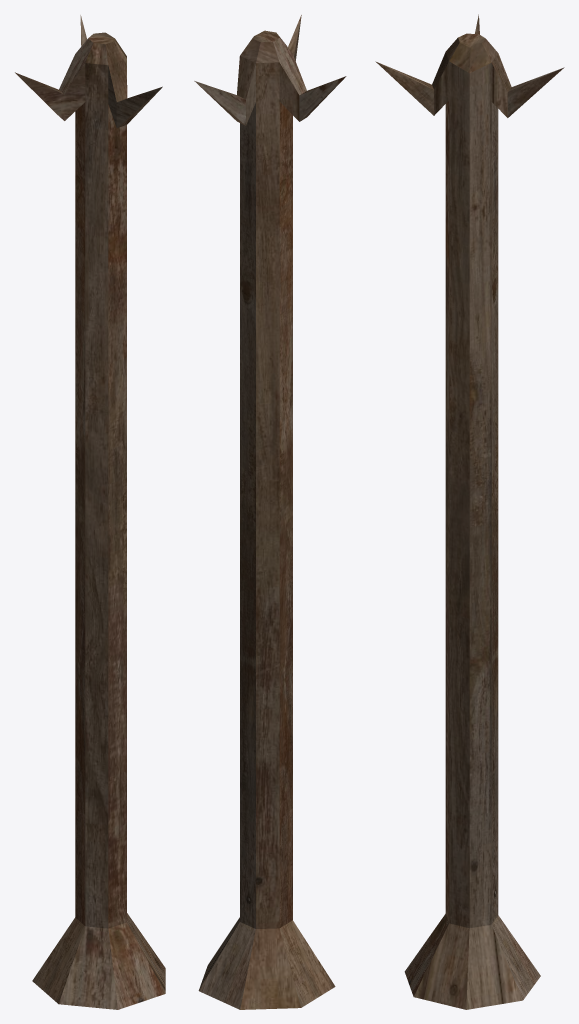
Rendered from DressHolder_1.fbx.
3 views of the same model, side by side, from view 1: azimuth 30°, elevation 25°; view 2: azimuth 150°, elevation 25°; view 3: azimuth 270°, elevation 25° (orthographic).
Visible parts, largest first — view 1: DressHolder_1; view 2: DressHolder_1; view 3: DressHolder_1.
Boxes of the visible parts, x1,y1,x2,y2 form: DressHolder_1: [15, 15, 165, 1009]; DressHolder_1: [194, 15, 346, 1009]; DressHolder_1: [375, 14, 564, 1009].
Bounding box in the file's own units: 71.69 × 445 × 81.33.
